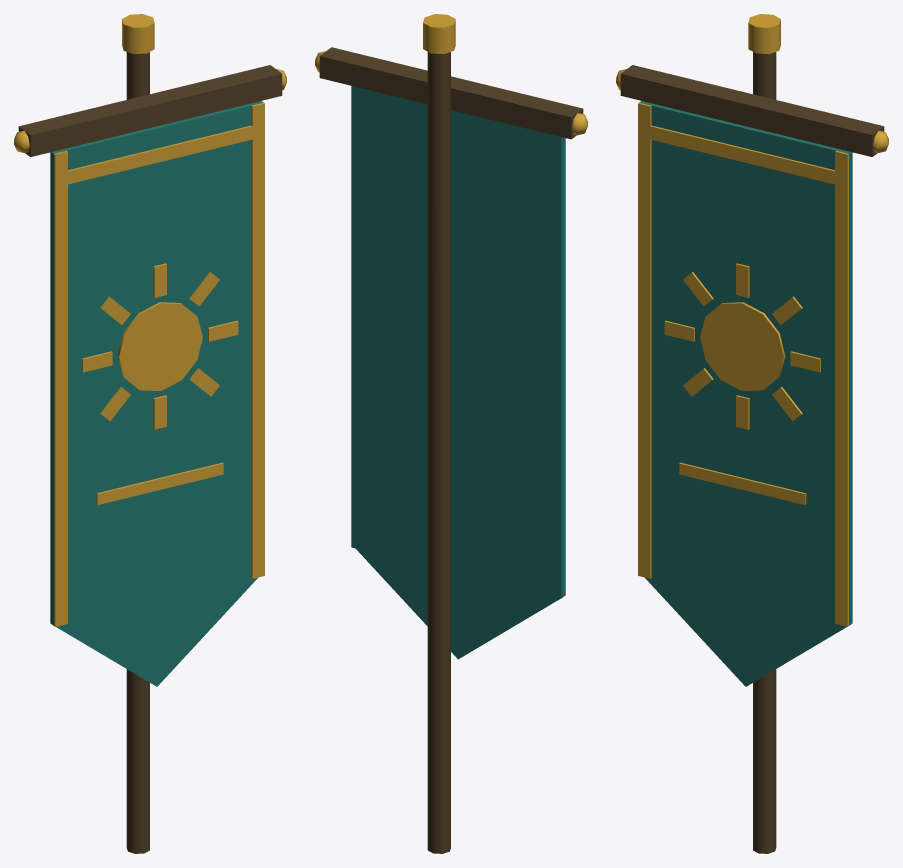
File: jt_banner_teal.glb
3 views of the same model, side by side, from view 1: azimuth 30°, elevation 25°; view 2: azimuth 150°, elevation 25°; view 3: azimuth 330°, elevation 25° (orthographic).
Visible parts, largest first — view 1: jt_banner_teal; view 2: jt_banner_teal; view 3: jt_banner_teal.
Boxes of the visible parts, x1,y1,x2,y2 form: jt_banner_teal: (14, 14, 286, 853); jt_banner_teal: (315, 14, 587, 853); jt_banner_teal: (616, 14, 888, 853).
Size of the model in its own units: 1.3 by 3.77 by 0.257.
